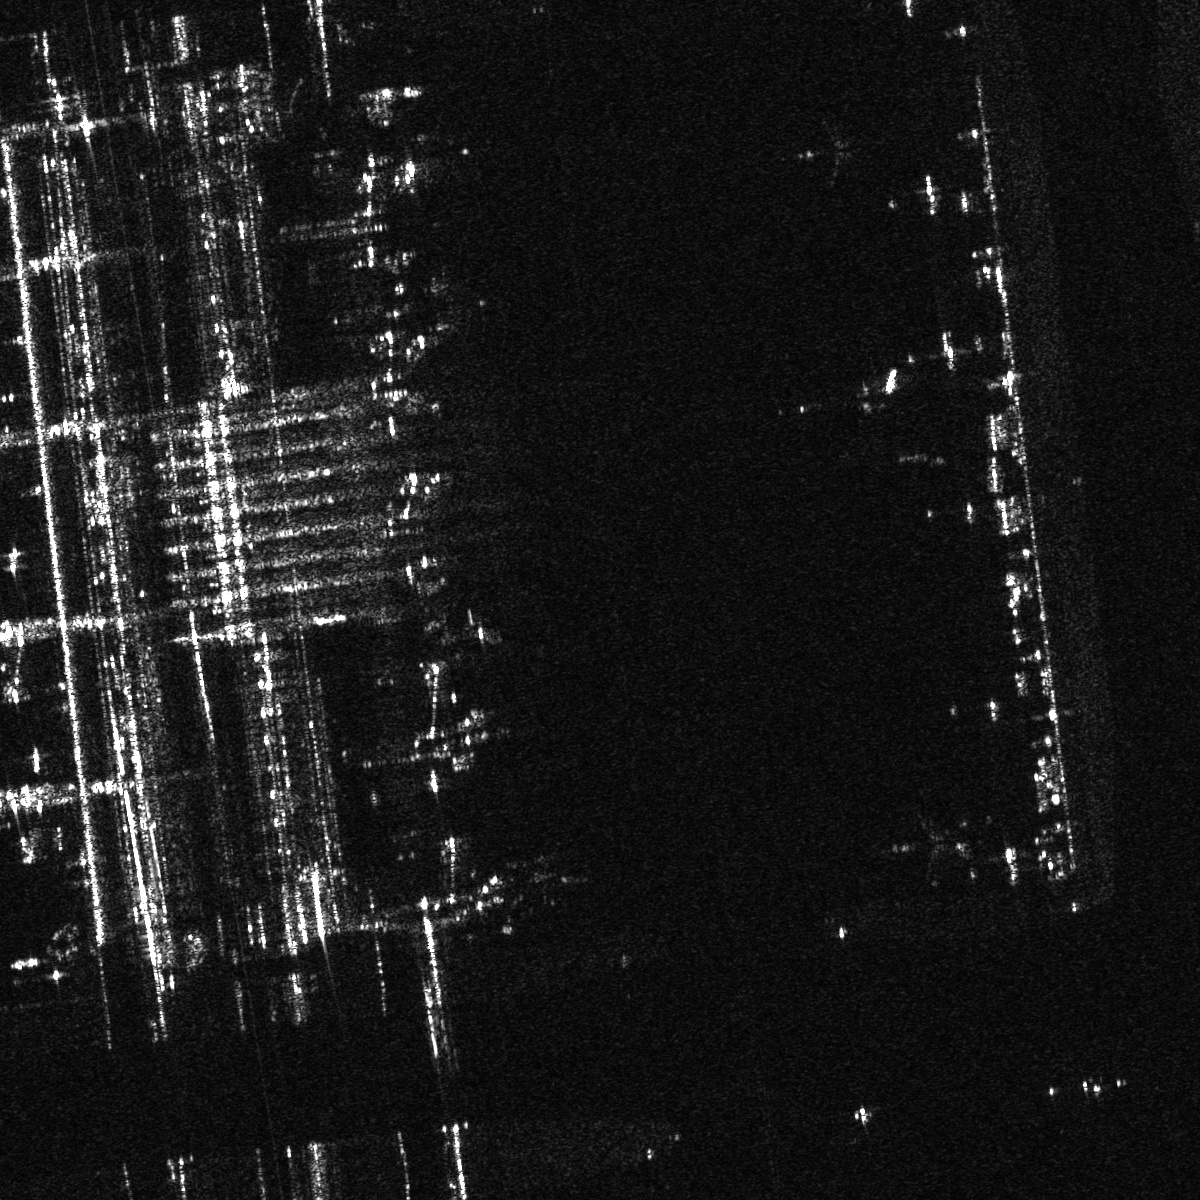Boeing737: (788, 116, 863, 192), (502, 851, 567, 908)
Boeing787: (886, 809, 958, 885)
